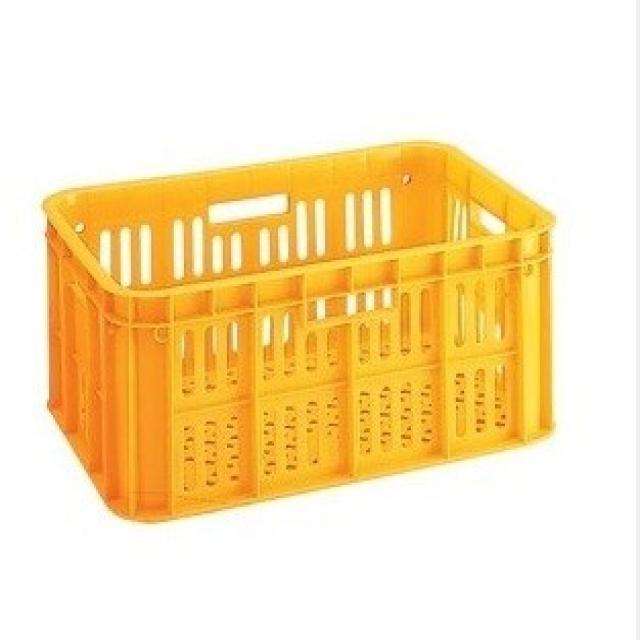basket: (15, 117, 594, 536)
